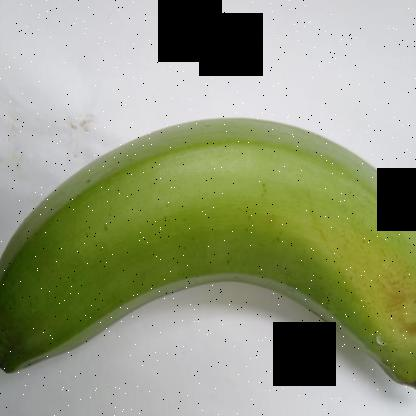freshunripe: (1, 92, 415, 415)
